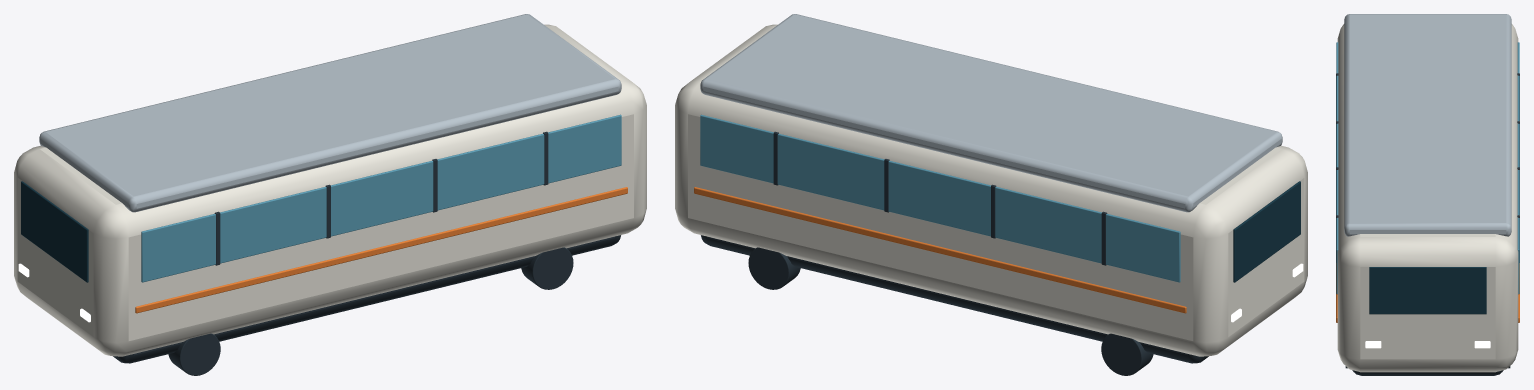
Rendered from Tram.fbx.
The picture shows the model from 3 angles, left to right: view 1: azimuth 30°, elevation 25°; view 2: azimuth 150°, elevation 25°; view 3: azimuth 270°, elevation 25°; orthographic projection. The views are drawn at different scales.
Parts seen in each view (by area): view 1: GFCG_TramHull, GFCG_TramRoof, GFCG_TramWindowBand_-1.078, GFCG_TramUnderbody, GFCG_TramAmberStripe_-1.078, GFCG_TramCabGlass_-3.36, GFCG_TramWheel_-2.15_-0.85, GFCG_TramWheel_2.15_-0.85; view 2: GFCG_TramHull, GFCG_TramRoof, GFCG_TramWindowBand_1.078, GFCG_TramUnderbody, GFCG_TramAmberStripe_1.078, GFCG_TramCabGlass_-3.36, GFCG_TramWheel_-2.15_0.85, GFCG_TramWheel_2.15_0.85; view 3: GFCG_TramRoof, GFCG_TramHull, GFCG_TramCabGlass_3.36, GFCG_TramWindowBand_-1.078, GFCG_TramWindowBand_1.078, GFCG_TramUnderbody.
Part boxes in pixels (x1,y1,x2,y2): GFCG_TramHull: (14, 24, 646, 356); GFCG_TramRoof: (39, 14, 621, 212); GFCG_TramWindowBand_-1.078: (141, 114, 621, 282); GFCG_TramUnderbody: (113, 235, 620, 363); GFCG_TramAmberStripe_-1.078: (135, 187, 627, 313); GFCG_TramCabGlass_-3.36: (21, 181, 88, 282); GFCG_TramWheel_-2.15_-0.85: (168, 333, 220, 375); GFCG_TramWheel_2.15_-0.85: (521, 247, 573, 289); GFCG_TramHull: (675, 24, 1307, 356); GFCG_TramRoof: (700, 14, 1282, 212); GFCG_TramWindowBand_1.078: (700, 114, 1180, 282); GFCG_TramUnderbody: (701, 235, 1208, 363); GFCG_TramAmberStripe_1.078: (694, 187, 1186, 313); GFCG_TramCabGlass_-3.36: (1233, 181, 1300, 282); GFCG_TramWheel_-2.15_0.85: (1101, 333, 1153, 375); GFCG_TramWheel_2.15_0.85: (748, 247, 800, 289); GFCG_TramRoof: (1344, 14, 1511, 236); GFCG_TramHull: (1337, 24, 1518, 372); GFCG_TramCabGlass_3.36: (1369, 267, 1486, 314); GFCG_TramWindowBand_-1.078: (1336, 42, 1338, 294); GFCG_TramWindowBand_1.078: (1517, 42, 1519, 294); GFCG_TramUnderbody: (1352, 370, 1503, 375).
Size of the model in its own units: 6.75 by 2.25 by 2.19.
